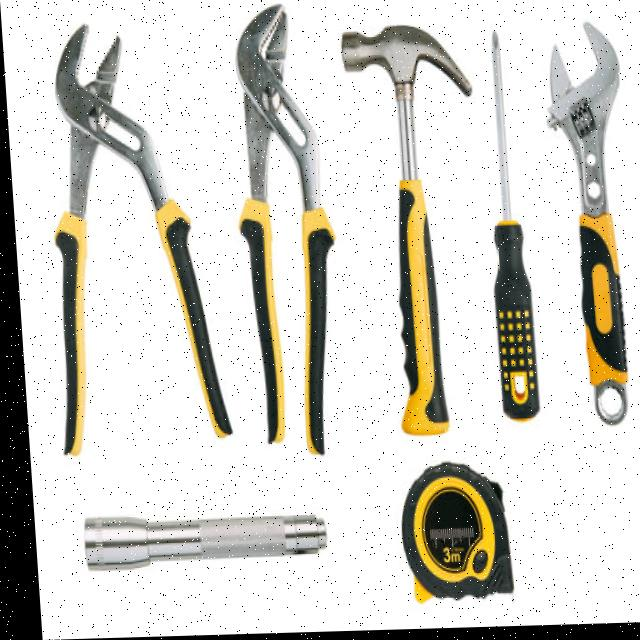Screwdriver: (490, 35, 533, 422)
